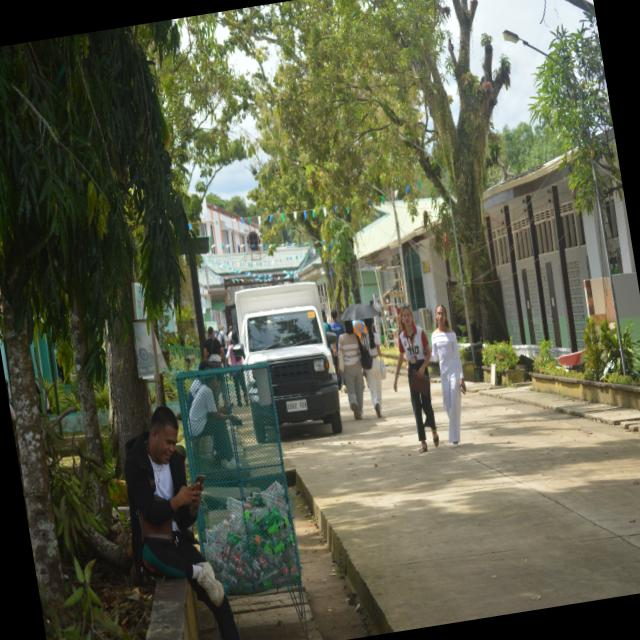person: (124, 407, 239, 639), (393, 306, 438, 452), (430, 305, 465, 447), (337, 321, 363, 420), (361, 319, 381, 417), (203, 327, 224, 368), (232, 372, 247, 407)
